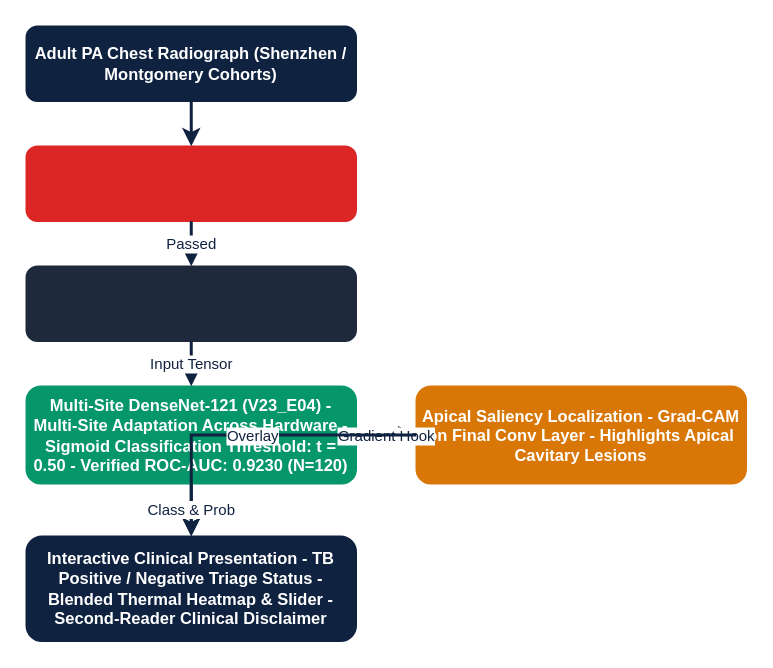
Some shapes in this 773 by 668 pixel diagram are drawn without their labels. The shapes that lost their labels are listed below. From the top down, each one's centre as x and y in pixels, then its label:
At (x=190, y=183): "Defensive Quality Gate - Resolution, Blank Canvas & Blur Validation".
At (x=190, y=303): "Multi-Site Standardization - 224x224 Tensor & Z-Score Normalization".
